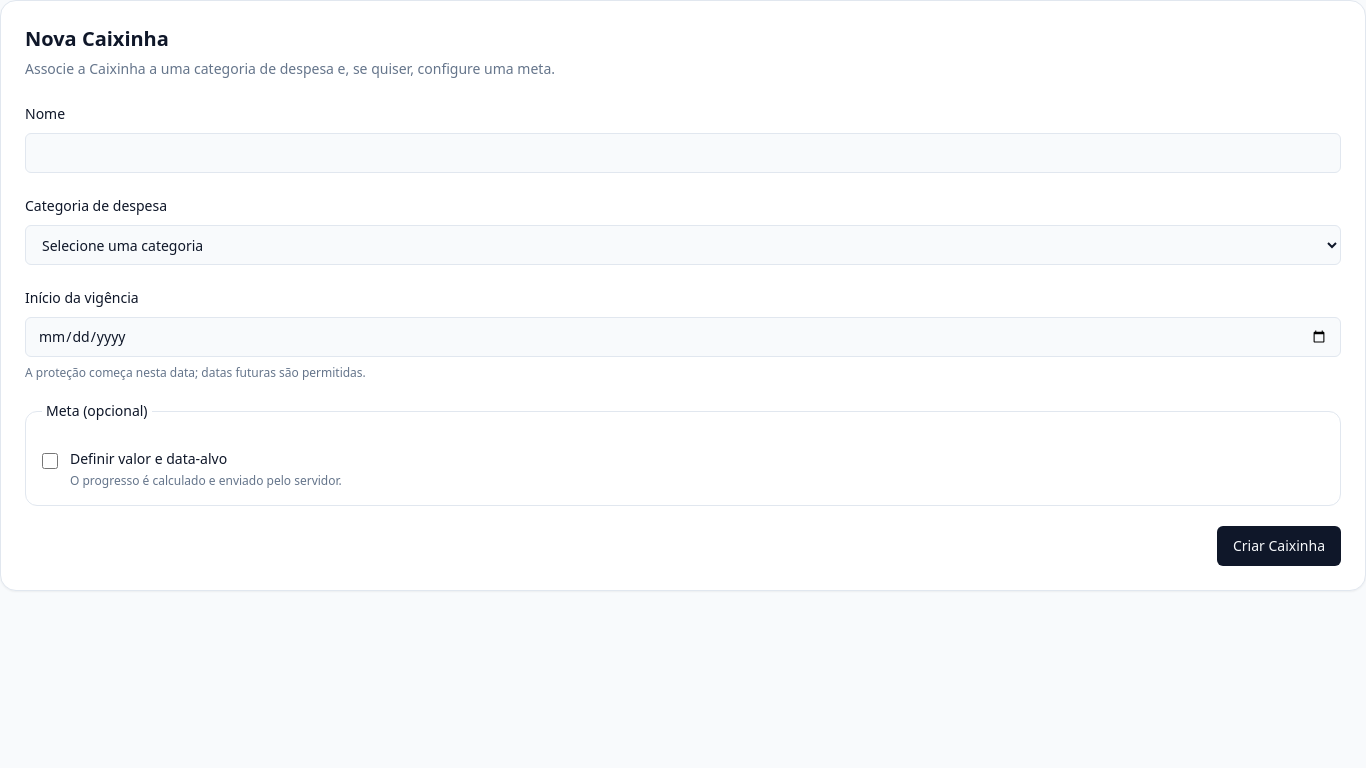
it: BudgetForm › rejects a goal date before the start of the budget
Type "Lazer" into the field labelled "Nome" at {"x": 683, "y": 153}, box [25,133,1341,173]
Select "Lazer" in the dropdown labelled "Categoria de despesa" at {"x": 683, "y": 245}, box [25,225,1341,265]
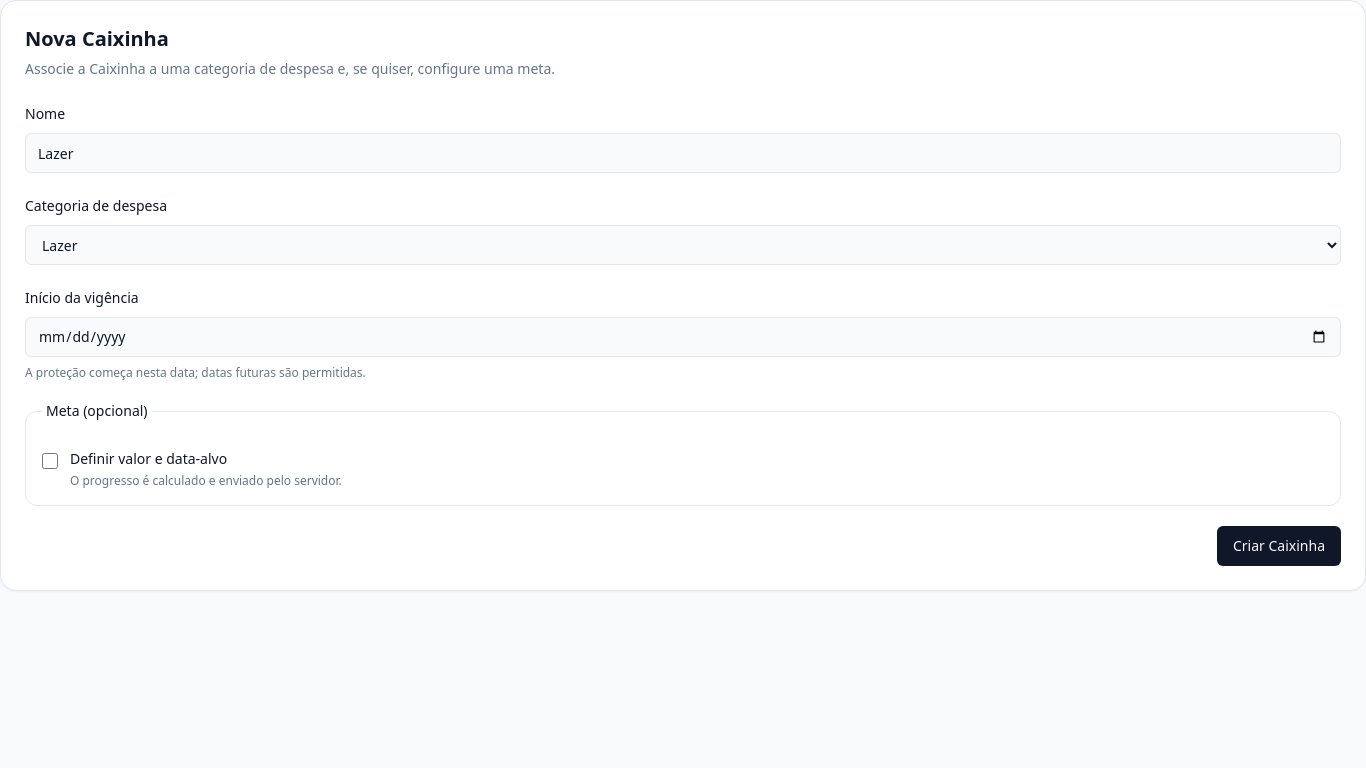
Type "2026-09-10" into the date field labelled "Início da vigência" at {"x": 683, "y": 337}, box [25,317,1341,357]
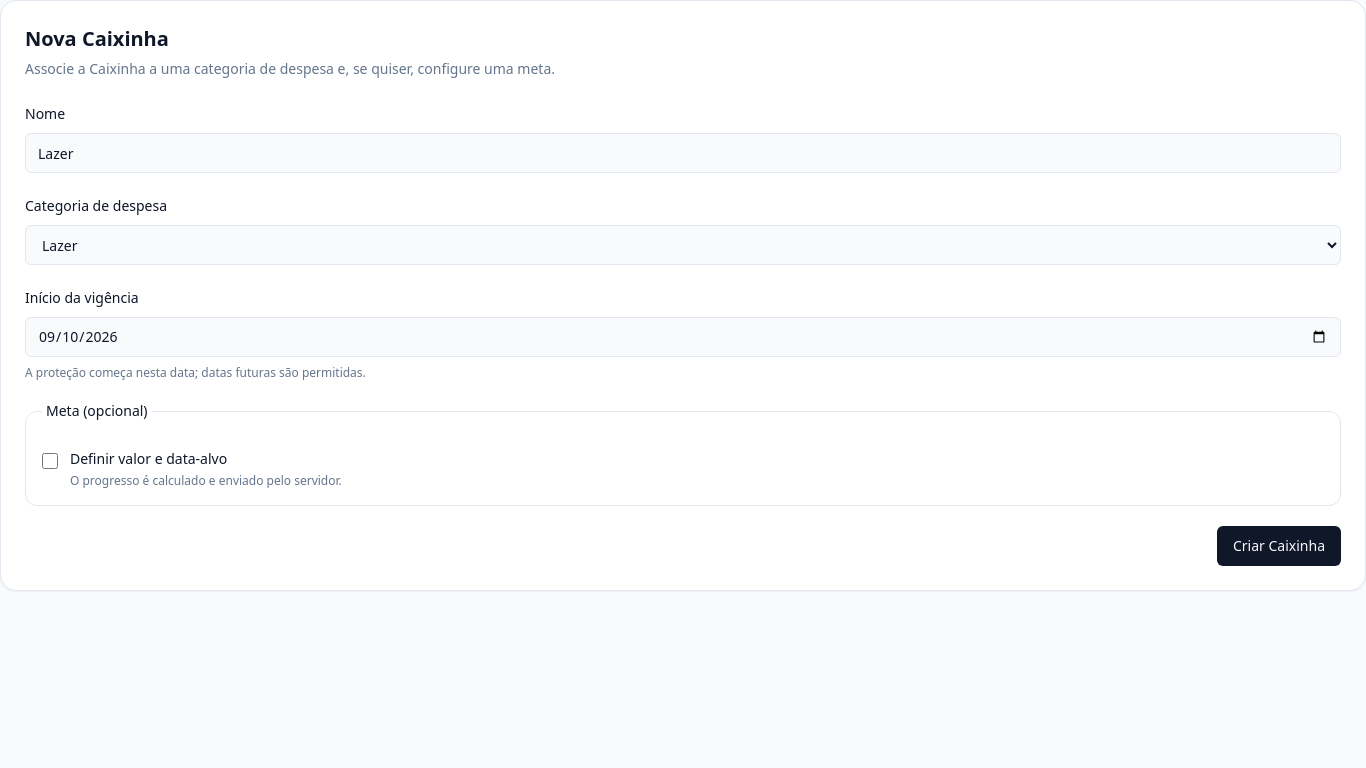
Click the checkbox labelled "Definir valor" at {"x": 50, "y": 461}, box [42,453,58,469]
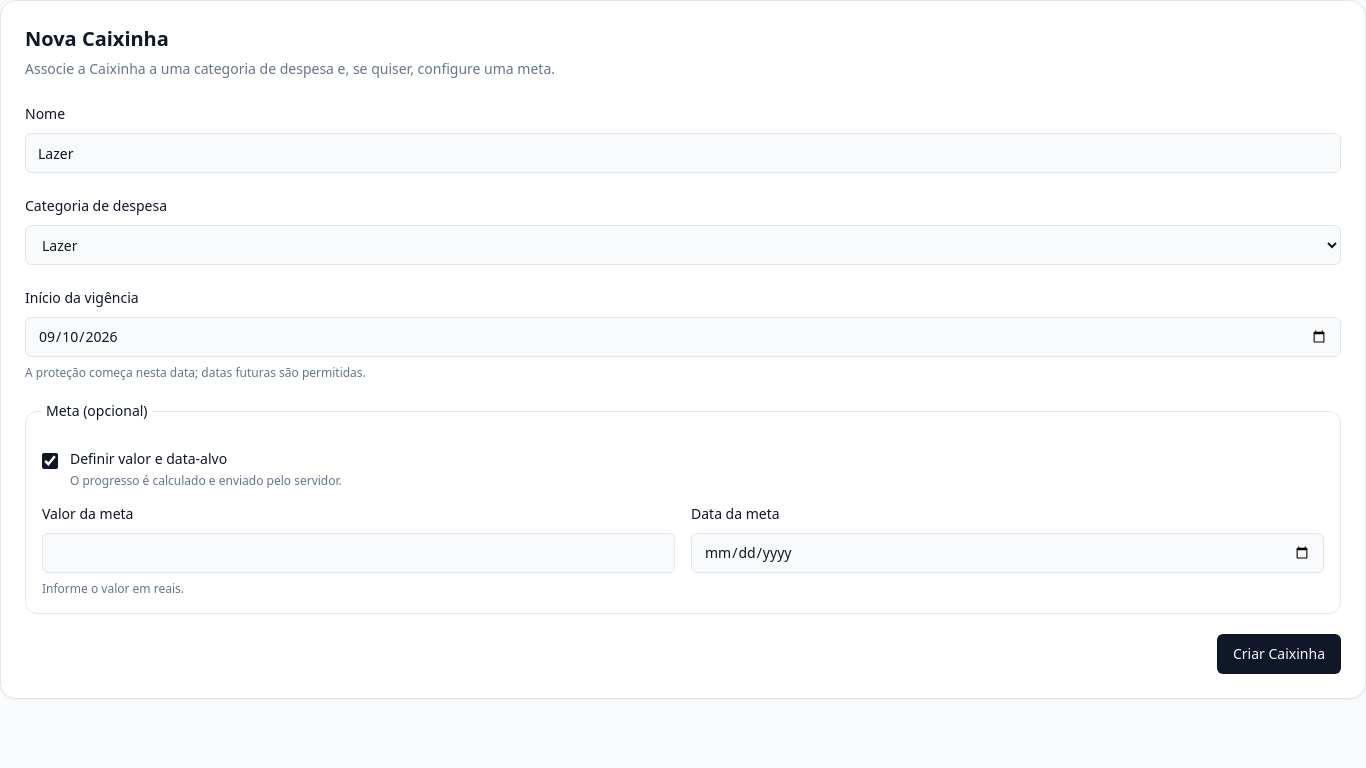
Type "100000" into the field labelled "Valor da meta" at {"x": 358, "y": 553}, box [42,533,675,573]
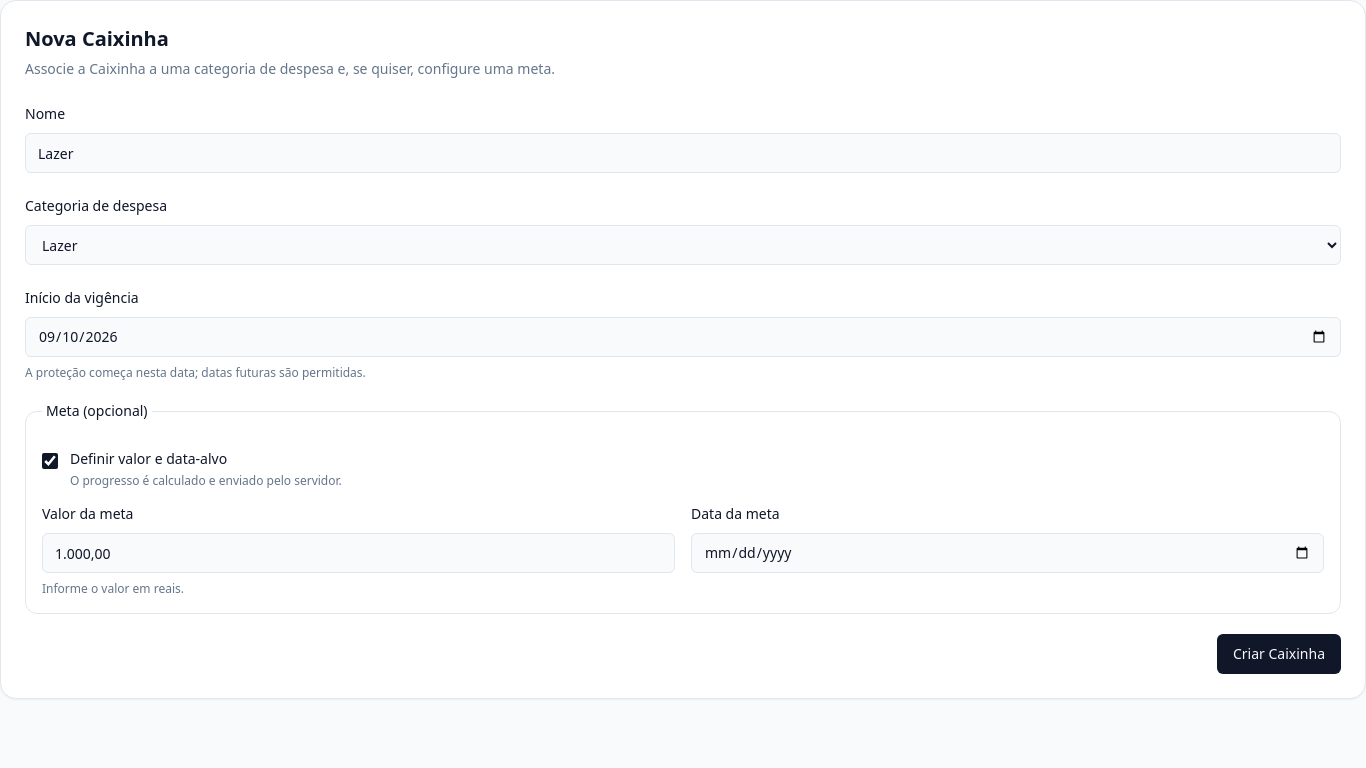
Type "2026-09-01" into the date field labelled "Data da meta" at {"x": 1008, "y": 553}, box [691,533,1324,573]
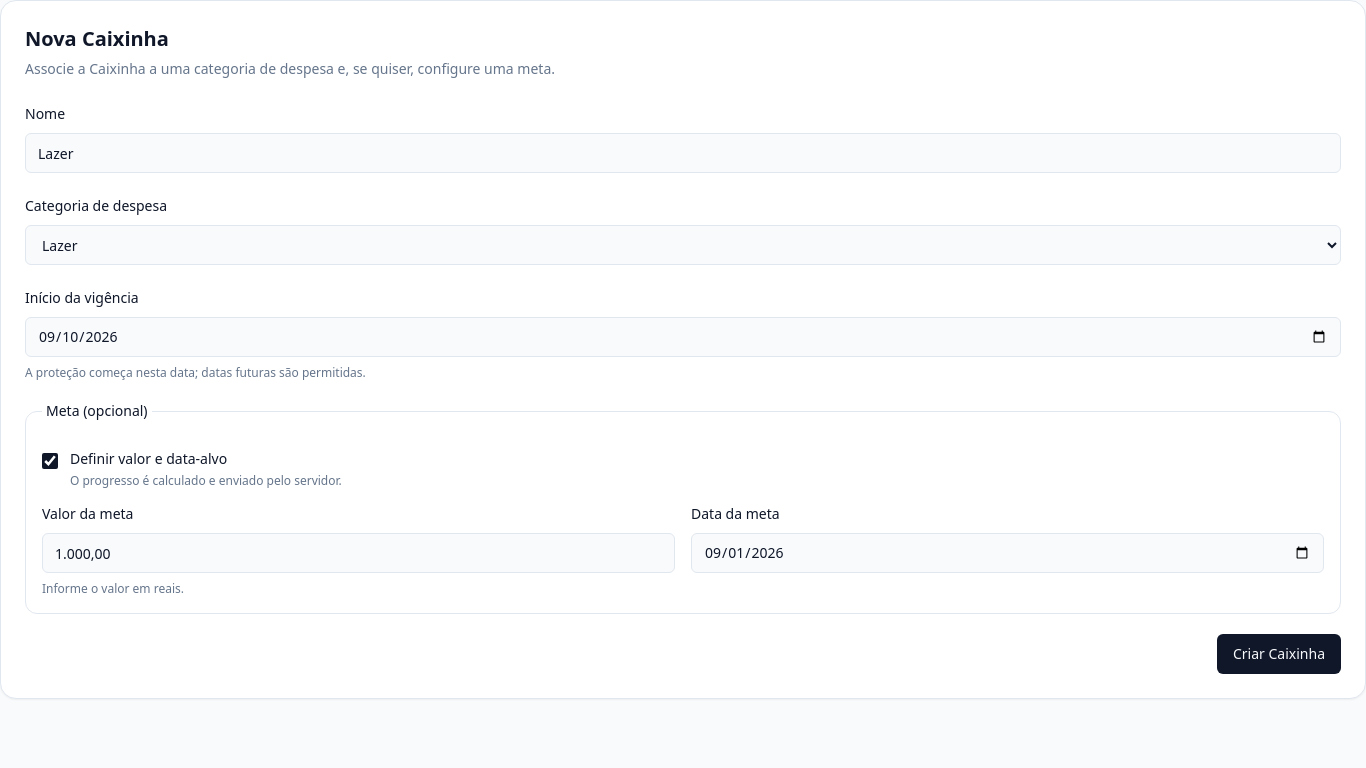
Click the button "Criar Caixinha" at {"x": 1279, "y": 654}, box [1217,634,1341,674]
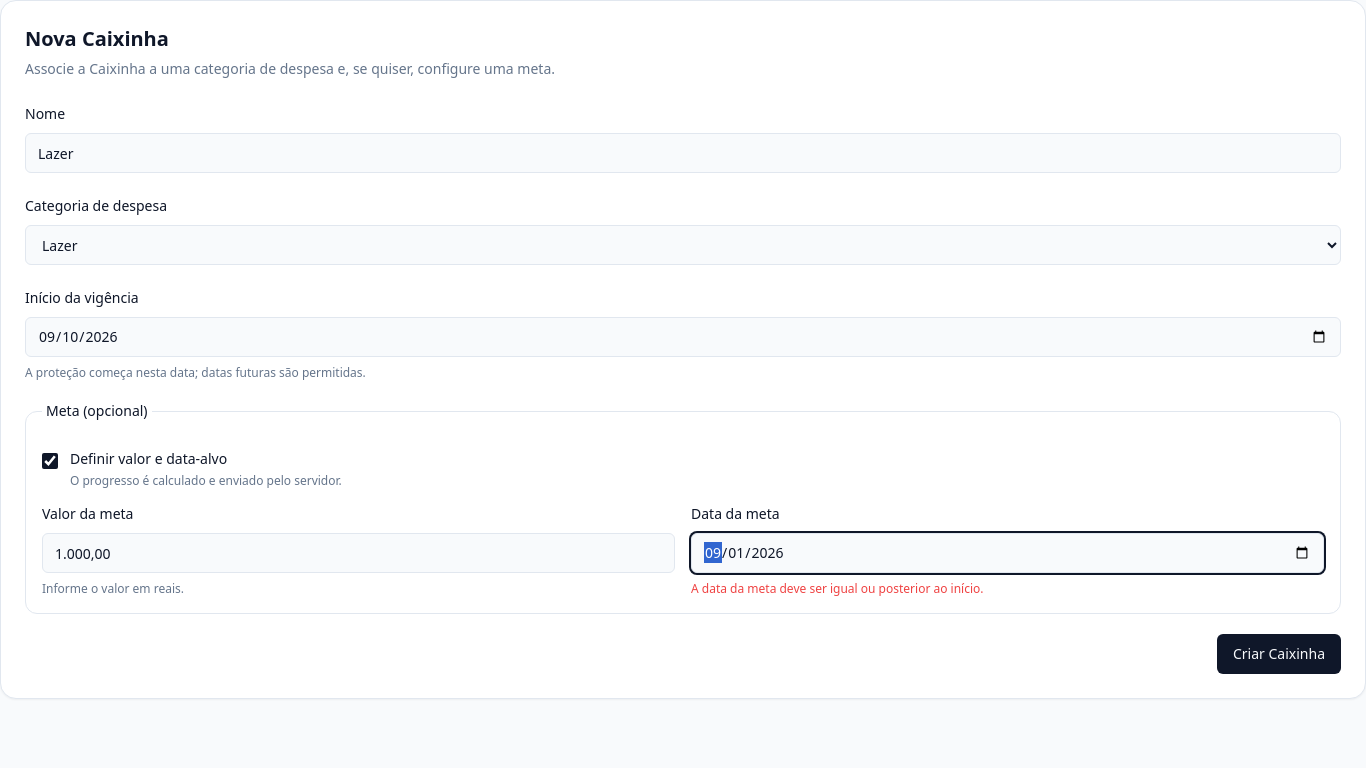
Expected: the text "A data da meta deve ser igual ou posterior ao início." is shown, [691,580,984,597]
